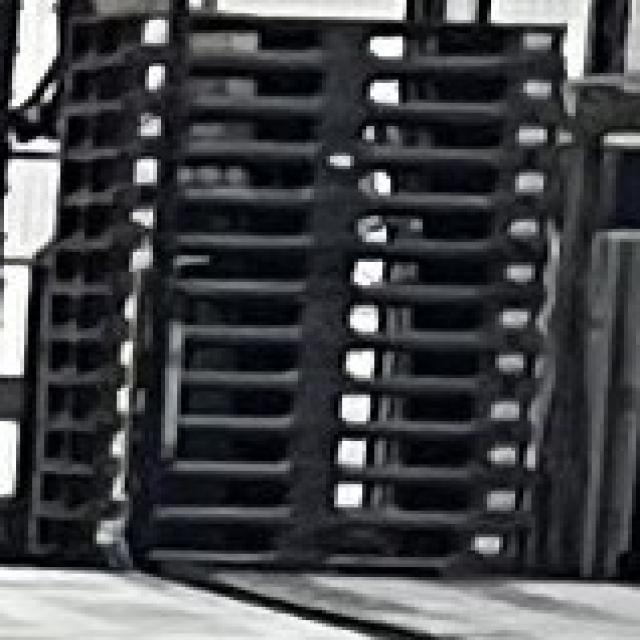igps: (87, 512, 536, 584), (126, 7, 581, 65), (111, 338, 553, 394), (126, 57, 574, 111), (101, 428, 542, 482), (115, 289, 551, 342), (105, 382, 547, 433), (126, 150, 566, 201), (120, 244, 556, 293), (124, 202, 556, 251), (128, 106, 571, 150), (104, 474, 541, 516)
